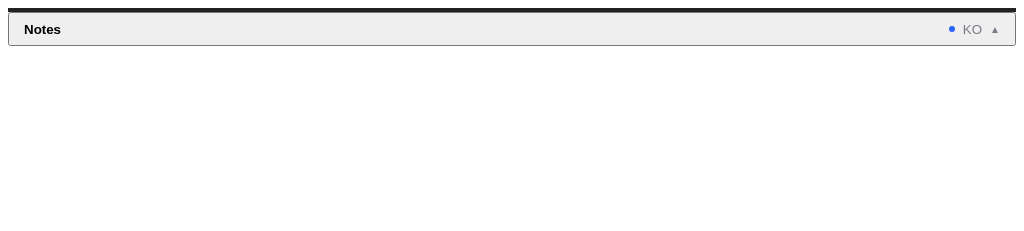
Should fold again and keep the note
Click the button with aria-label "Notes for KO": (43, 29) left=8, top=12, right=1016, bottom=46
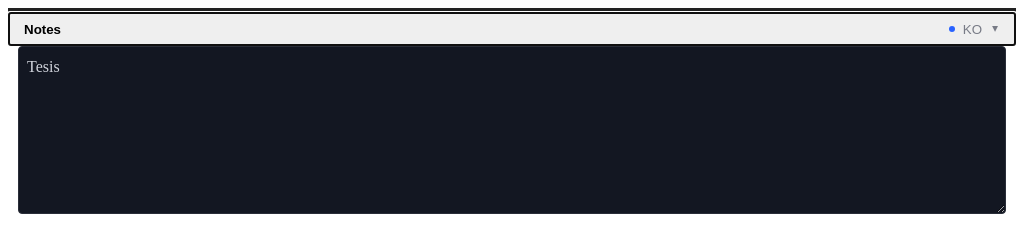
Click the button with aria-label "Notes for KO": (43, 29) left=8, top=12, right=1016, bottom=46
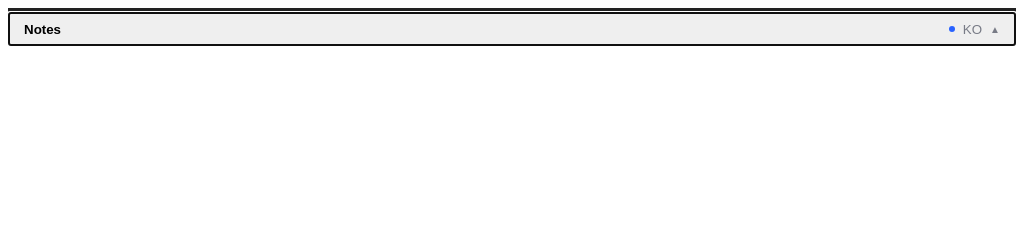
Now the button with aria-label "Notes for KO" is collapsed, box left=8, top=12, right=1016, bottom=46
